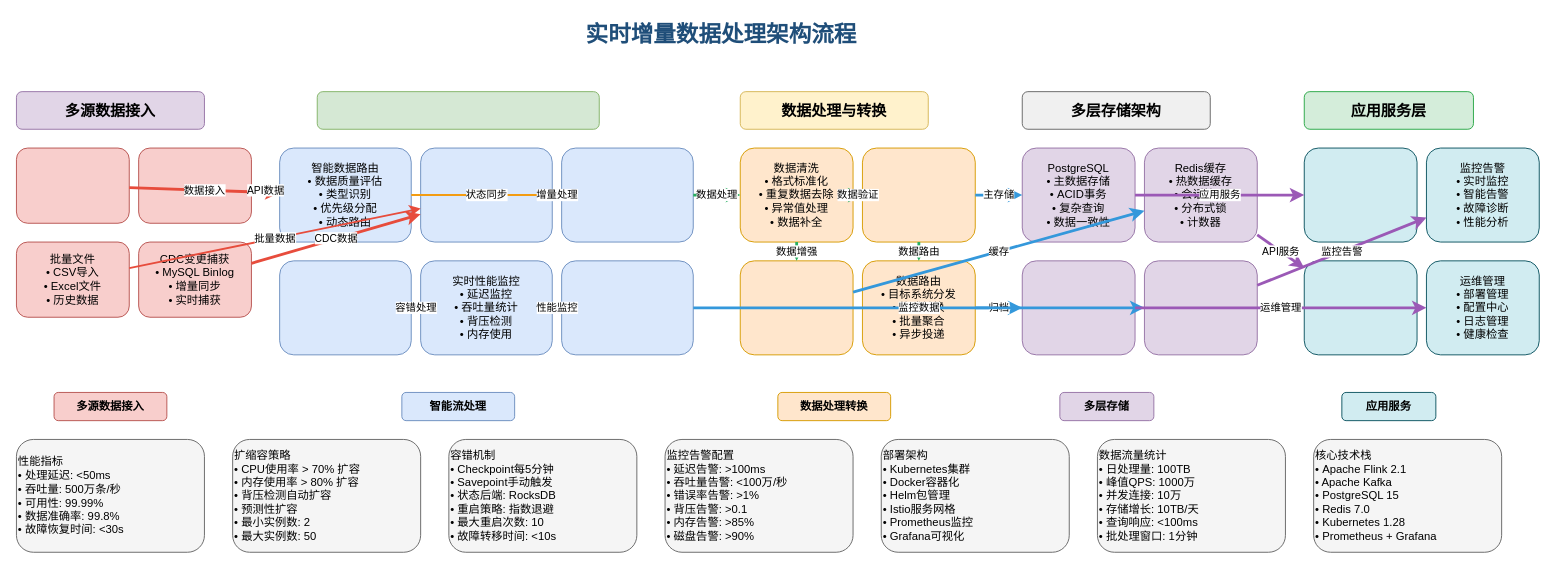
The diagram is 1556 pixels wide and 569 high, and some of its shapes have lost their labels. The shapes that lost their labels are listed below. From the top down, each one's centre as x and y in pixels, then its label:
At (x=457, y=110): "Flink 2.1 流处理引擎".
At (x=72, y=185): "Kafka数据流 • 营销系统变更 • 客户档案更新 • 地址信息修正".
At (x=194, y=185): "外部API • 地址标准化 • 第三方验证 • 政府数据".
At (x=486, y=194): "增量处理策略 • 变更优先级 • 字段重要性 • 批处理阈值 • 变更显著性".
At (x=627, y=194): "分层状态管理 • 内存状态 • RocksDB持久化 • 外部存储 • 状态快照".
At (x=918, y=194): "数据验证 • 业务规则校验 • 完整性检查 • 一致性验证 • 准确性评估".
At (x=1360, y=194): "数据治理应用 • 质量监控 • 规则管理 • 报表分析 • 异常处理".
At (x=345, y=307): "智能容错恢复 • 故障检测 • 原因分析 • 恢复策略 • 自动重启".
At (x=627, y=307): "智能扩缩容 • HPA水平扩展 • VPA垂直扩展 • 预测性扩容 • 资源优化".
At (x=796, y=307): "数据增强 • 地址标准化 • 关联数据补充 • 智能推理 • 质量评分".
At (x=1078, y=307): "对象存储 • 文件归档 • 历史备份 • 大文件存储 • 冷数据".
At (x=1200, y=307): "时序数据库 • 监控指标 • 性能数据 • 趋势分析 • 告警数据".
At (x=1360, y=307): "API服务 • RESTful API • GraphQL • 权限控制 • 限流熔断".
